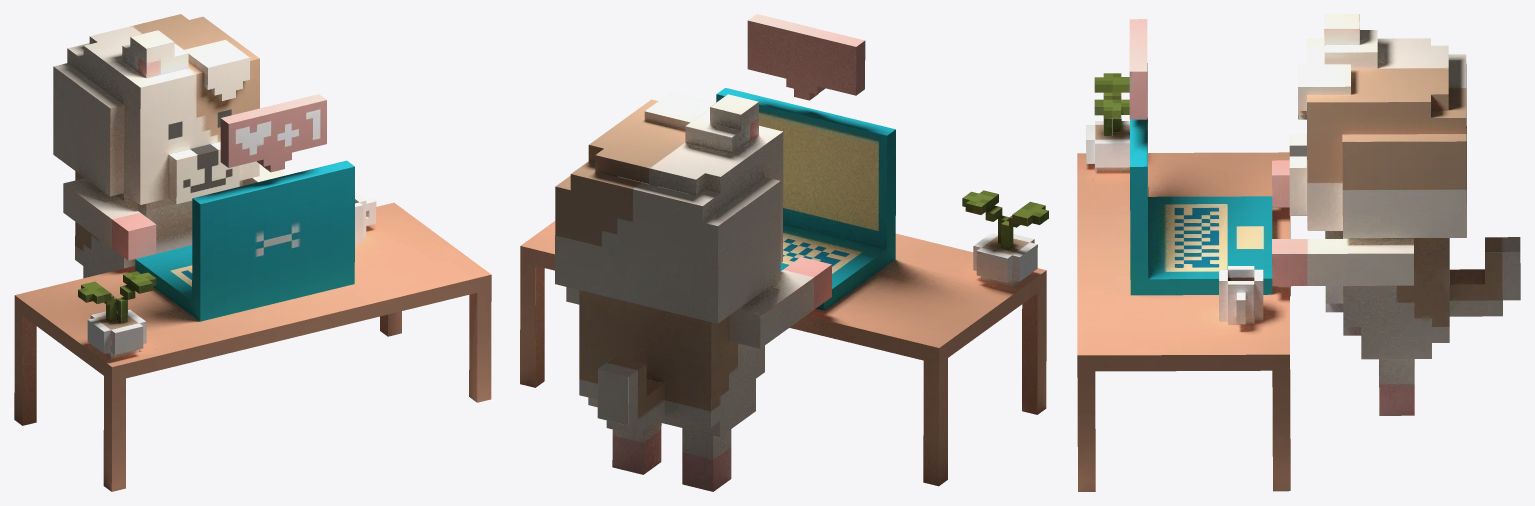
The model's file is voxel-transformed.glb.
3 renders of one model, left to right at view 1: azimuth 30°, elevation 25°; view 2: azimuth 150°, elevation 25°; view 3: azimuth 270°, elevation 25°, orthographic. The views are drawn at different scales.
Visible parts, largest first — view 1: main_2; view 2: main_2; view 3: main_2.
Boxes of the visible parts, box(x1,y1,x2,y2) form: main_2: box(14, 14, 491, 491); main_2: box(520, 14, 1048, 491); main_2: box(1077, 14, 1520, 491).
Size of what is drawn, in the model's own units: 5.6 by 4.41 by 5.
Materials: 1 (1 with a texture image).
